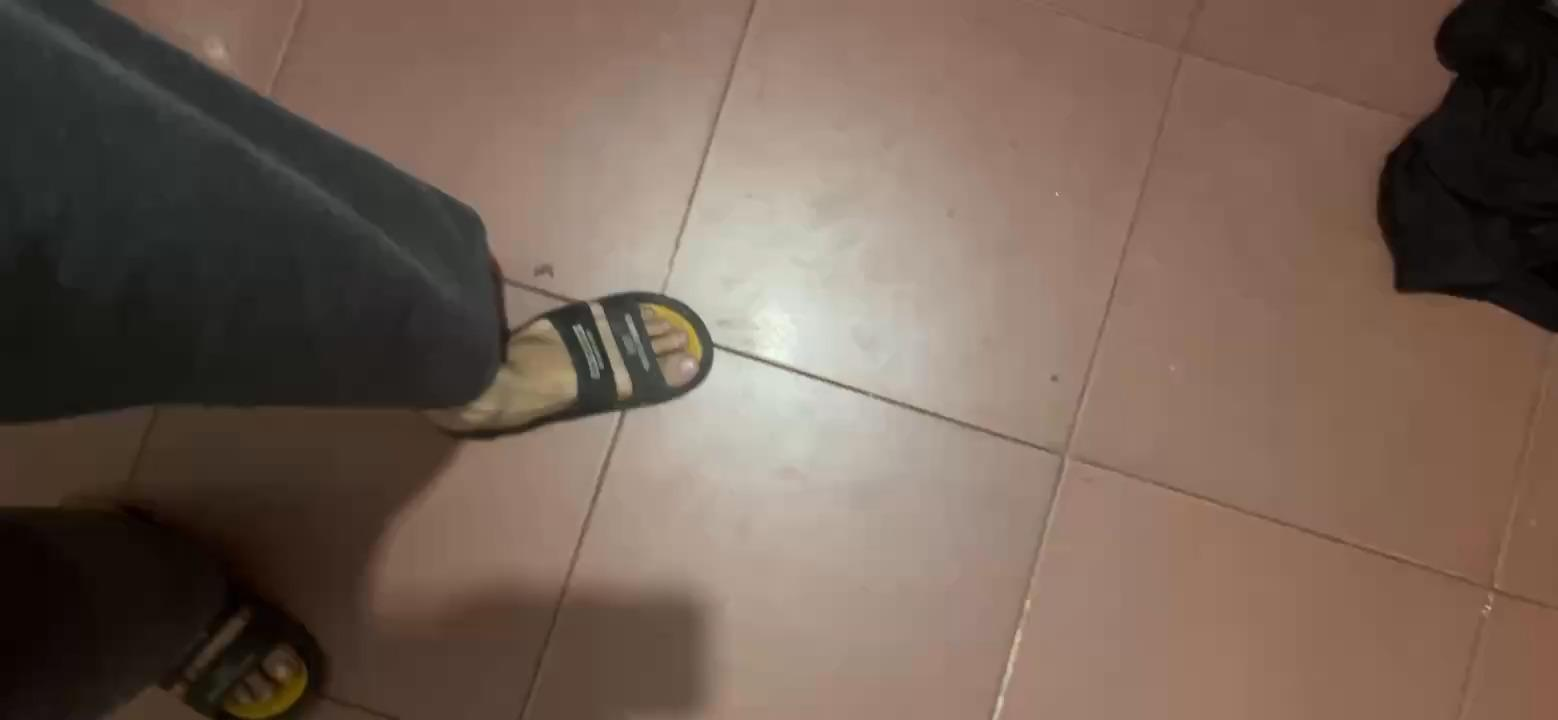no-boot: (393, 299, 731, 434), (161, 571, 336, 720)
